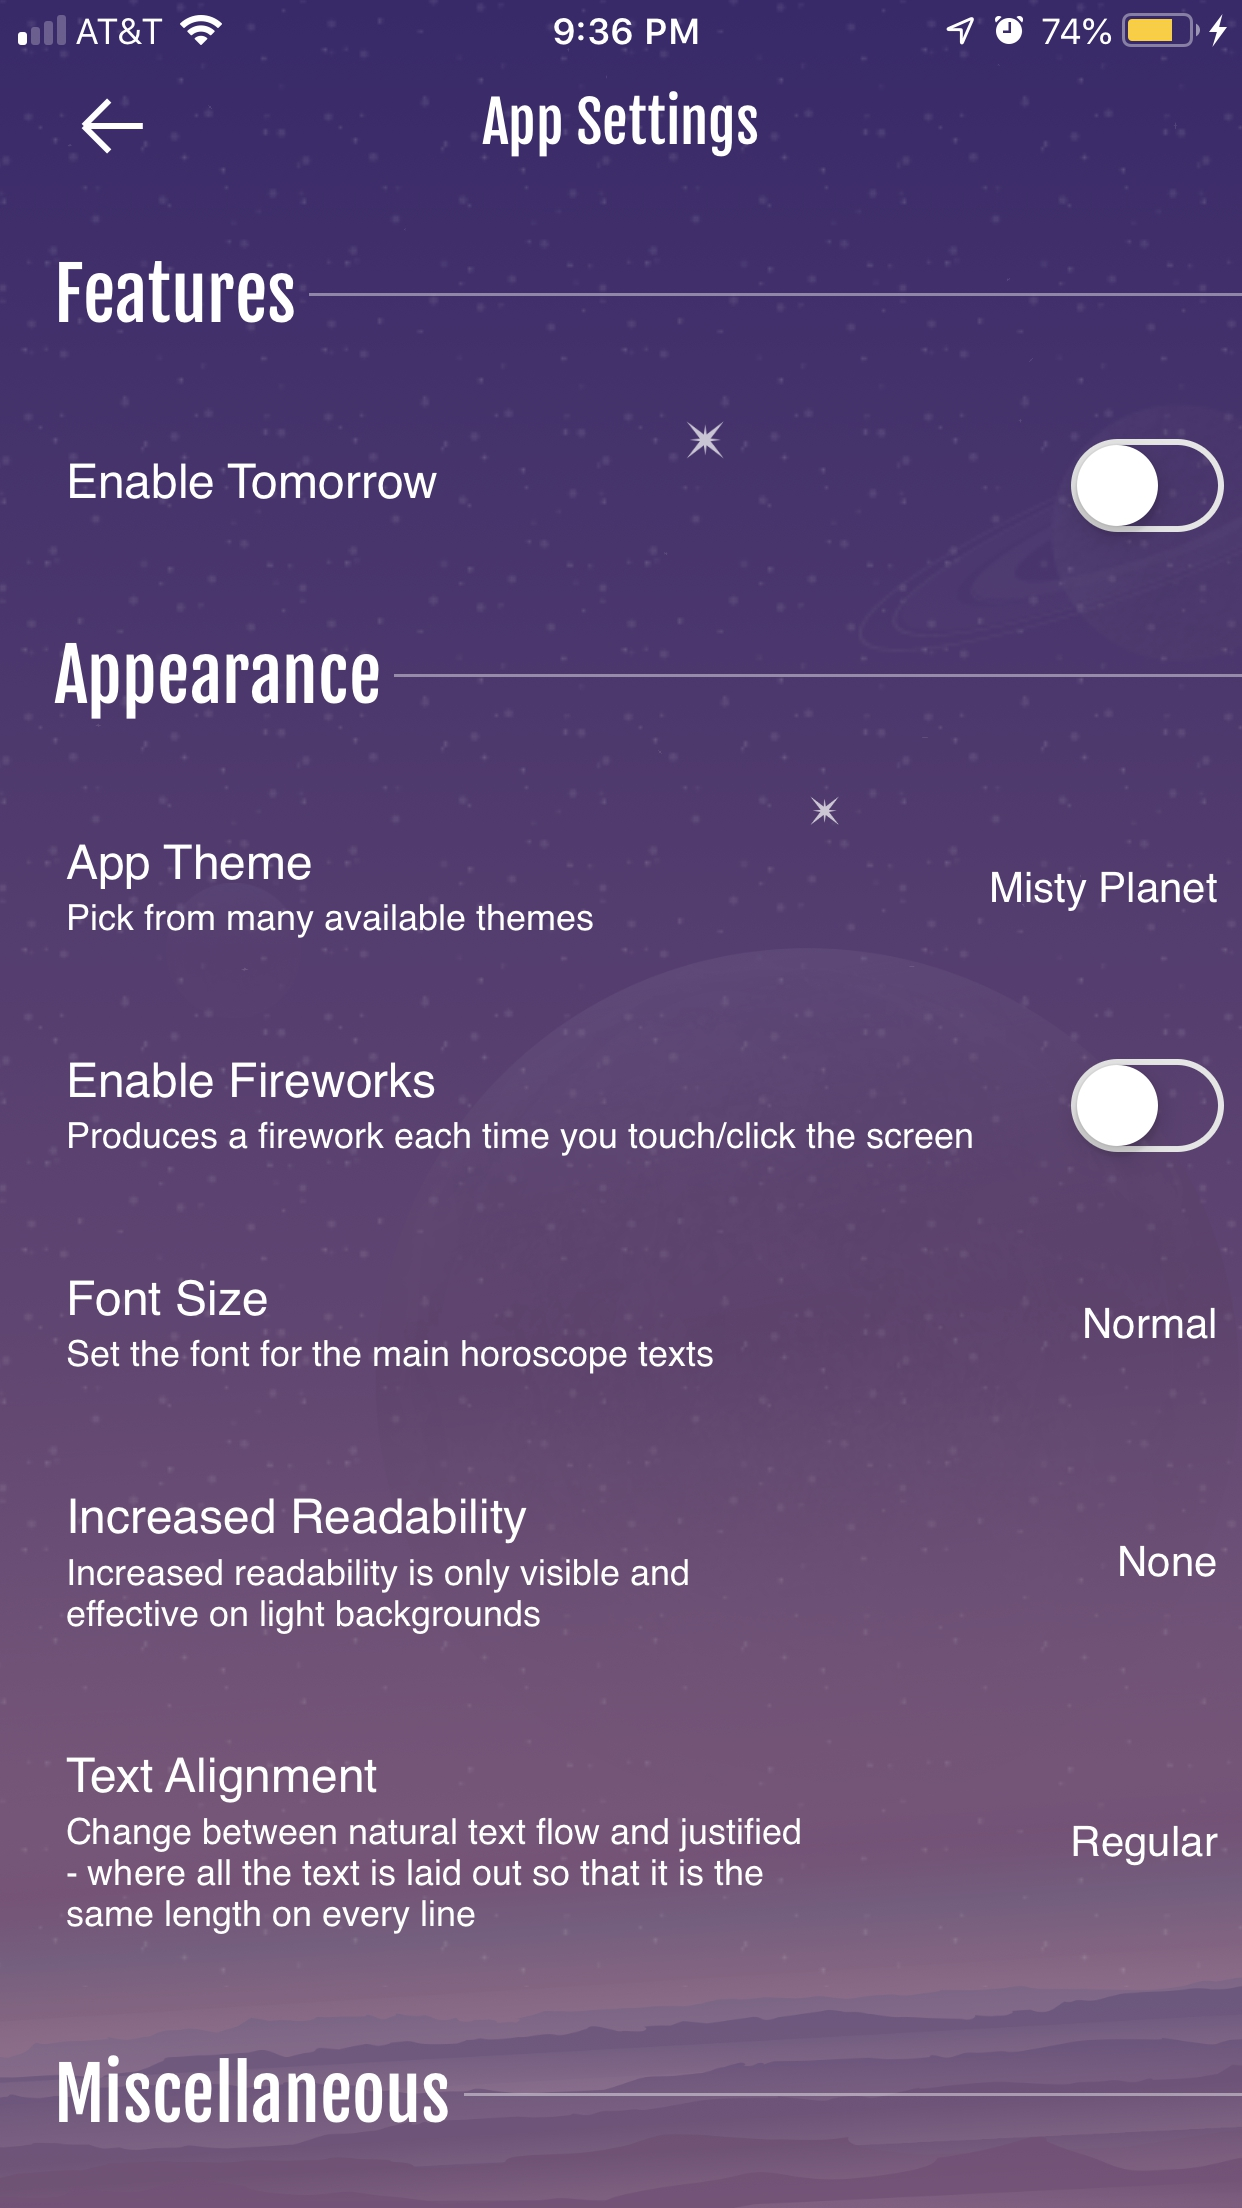BackgroundImage: (2, 2, 1242, 2208)
Icon: (82, 99, 144, 156)
Switch: (1069, 438, 1225, 535), (1071, 1059, 1225, 1154)
Text: (65, 1817, 804, 1935), (67, 1557, 688, 1636), (68, 1121, 974, 1153), (58, 2053, 449, 2125), (55, 643, 379, 720), (67, 1338, 714, 1375), (68, 1497, 528, 1545), (70, 902, 594, 939), (482, 91, 760, 158), (67, 1756, 378, 1805), (59, 261, 296, 325), (70, 463, 438, 500), (70, 1062, 437, 1099), (67, 843, 312, 892), (990, 870, 1218, 914), (70, 1278, 268, 1318), (1072, 1824, 1219, 1867), (1083, 1306, 1216, 1341), (1119, 1545, 1218, 1579)
UpperTaskBar: (2, 2, 1242, 49)
